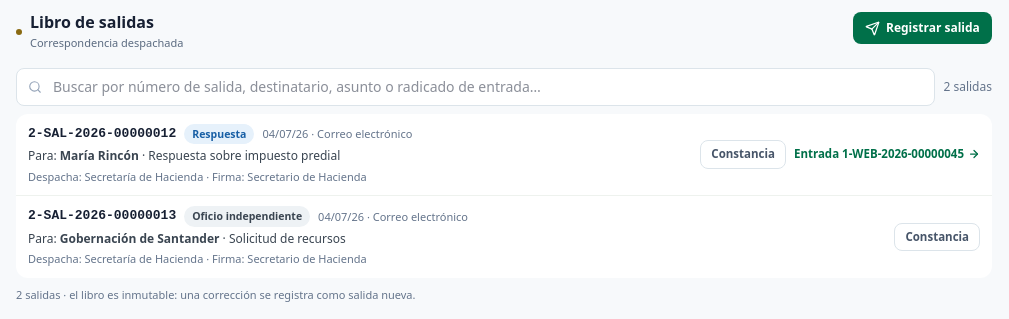
Radicación de salida — VistaSalidas › buscar por destinatario filtra el libro
Replace the text in the search field named "Buscar en el libro de salidas" with "gobernacion". click: (476, 87)
box: [16,68,936,106]
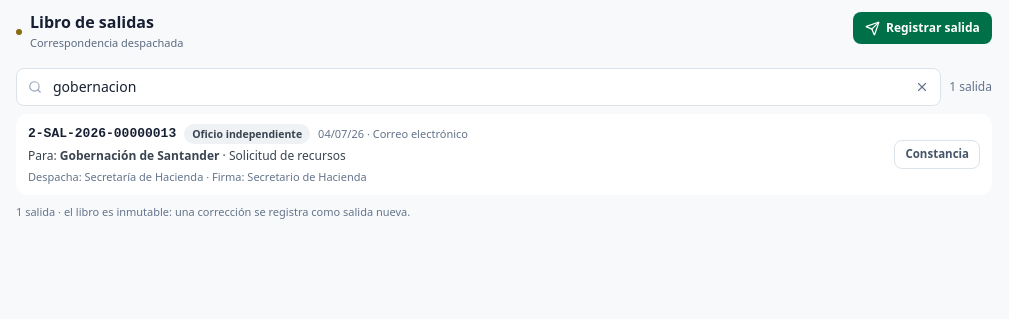
Expected: the text "2-SAL-2026-00000013" is shown, [28,124,176,144]
Expected: the text "2-SAL-2026-00000012" is gone
